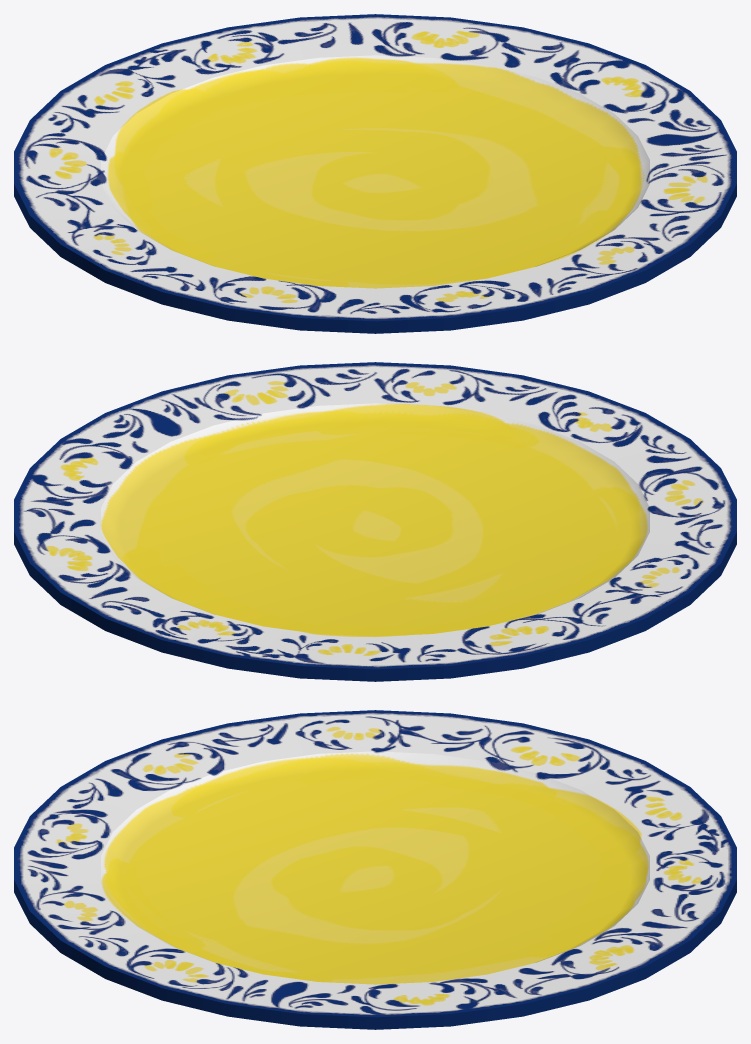
The model's file is Plate_01_Textured.fbx.
3 renders of one model, top to bottom at view 1: azimuth 30°, elevation 25°; view 2: azimuth 150°, elevation 25°; view 3: azimuth 270°, elevation 25°, orthographic.
Visible parts, largest first — view 1: plate_01; view 2: plate_01; view 3: plate_01.
Boxes of the visible parts, x1,y1,x2,y2 form: plate_01: (14,14,736,333); plate_01: (14,362,736,681); plate_01: (14,710,736,1029).
Size of the model in its own units: 165 by 9.03 by 164.
1 material, 1 textured.
